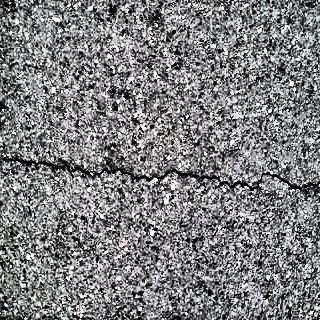crack: (1, 154, 320, 198)
